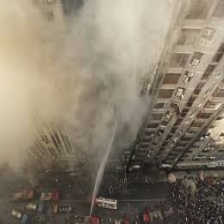smoke: (16, 20, 139, 109)
